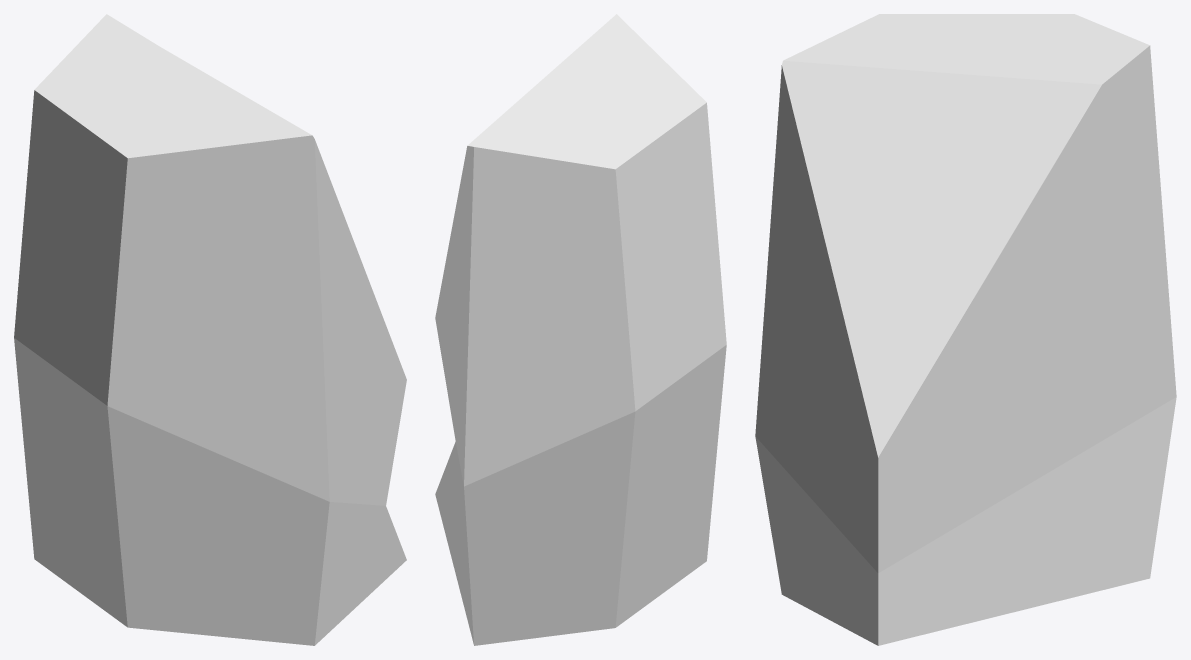
File: charcoal_3.fbx
3 views of the same model, side by side, from view 1: azimuth 30°, elevation 25°; view 2: azimuth 150°, elevation 25°; view 3: azimuth 270°, elevation 25° (orthographic). The views are drawn at different scales.
Parts seen in each view (by area): view 1: charcoal_3; view 2: charcoal_3; view 3: charcoal_3.
Part boxes in pixels (x1,y1,x2,y2): charcoal_3: (14, 14, 406, 645); charcoal_3: (435, 14, 726, 645); charcoal_3: (755, 14, 1176, 645).
Size of the model in its own units: 225 by 367 by 263.
